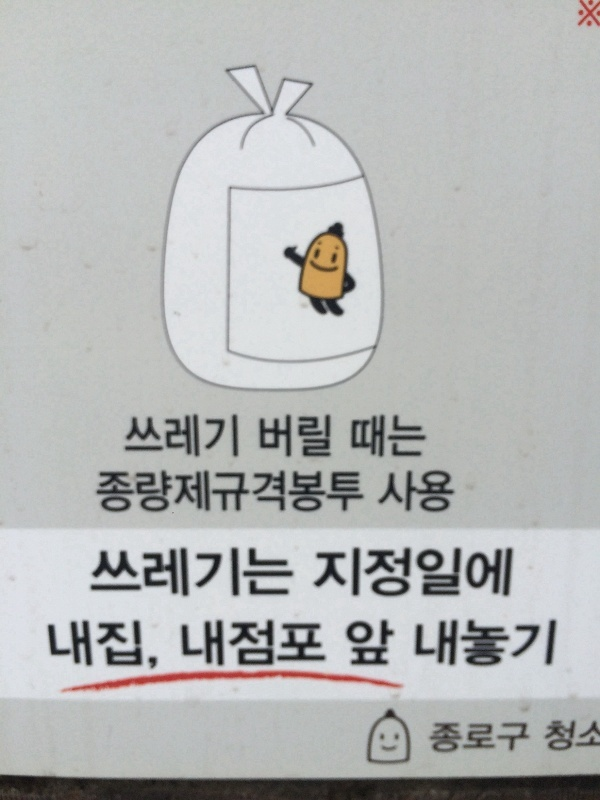text: (417, 604, 432, 692), (433, 604, 448, 692), (449, 604, 464, 692), (465, 604, 480, 692), (481, 604, 496, 692), (497, 604, 512, 692), (513, 604, 528, 692), (529, 604, 544, 692), (545, 604, 560, 692), (49, 601, 64, 688), (65, 601, 80, 688), (81, 601, 96, 688), (97, 601, 112, 688), (113, 601, 128, 688), (129, 601, 144, 688), (145, 601, 160, 688), (97, 524, 112, 606), (113, 524, 128, 606), (129, 524, 144, 606), (145, 524, 160, 606), (161, 524, 176, 606), (177, 524, 192, 606), (193, 524, 208, 606), (209, 524, 224, 606), (225, 524, 240, 606), (241, 524, 256, 606), (257, 524, 272, 606), (273, 524, 288, 606), (321, 534, 336, 613), (337, 534, 352, 613), (353, 534, 368, 613), (369, 534, 384, 613), (385, 534, 400, 613), (401, 534, 416, 613), (417, 534, 432, 613), (433, 534, 448, 613), (449, 534, 464, 613), (465, 534, 480, 613), (481, 534, 496, 613), (497, 534, 512, 613), (385, 456, 400, 533), (401, 456, 416, 533), (417, 456, 432, 533), (433, 456, 448, 533), (177, 607, 192, 684), (193, 607, 208, 684), (209, 607, 224, 684), (225, 607, 240, 684), (241, 607, 256, 684), (257, 607, 272, 684), (273, 607, 288, 684), (289, 607, 304, 684), (305, 607, 320, 684), (321, 607, 336, 684), (97, 456, 112, 527), (113, 456, 128, 527), (129, 456, 144, 527), (145, 456, 160, 527), (161, 456, 176, 527), (177, 456, 192, 527), (193, 456, 208, 527), (209, 456, 224, 527), (225, 456, 240, 527), (353, 613, 368, 682), (369, 613, 384, 682), (385, 613, 400, 682), (129, 401, 144, 468), (145, 401, 160, 468), (161, 401, 176, 468), (177, 401, 192, 468), (193, 401, 208, 468), (209, 401, 224, 468), (225, 401, 240, 468), (417, 401, 433, 461), (321, 406, 337, 465), (257, 462, 272, 523), (273, 462, 288, 523), (289, 462, 304, 523), (305, 462, 320, 523), (321, 462, 336, 523), (337, 462, 352, 523), (353, 401, 368, 461), (369, 401, 384, 461), (385, 401, 400, 461), (401, 401, 416, 461), (257, 406, 272, 465), (273, 406, 288, 465), (289, 406, 304, 465), (305, 406, 320, 465), (309, 534, 320, 613), (353, 462, 366, 523), (433, 714, 448, 766), (449, 714, 464, 766), (465, 714, 480, 766), (481, 714, 496, 766), (497, 714, 512, 766), (513, 714, 528, 766), (561, 709, 576, 761), (577, 709, 592, 761), (161, 601, 169, 688), (449, 456, 458, 533), (342, 613, 352, 682), (547, 709, 560, 761), (289, 524, 297, 606), (241, 456, 250, 527), (561, 604, 568, 692), (41, 601, 48, 688), (89, 524, 96, 606), (529, 714, 540, 766), (377, 456, 384, 533), (344, 401, 352, 461), (241, 401, 247, 468), (513, 534, 518, 613), (171, 607, 176, 684), (425, 714, 432, 766), (593, 709, 600, 761), (412, 604, 416, 692), (251, 462, 256, 523), (251, 406, 256, 465), (124, 401, 128, 468), (337, 607, 340, 684), (93, 456, 96, 527), (401, 613, 402, 682)
